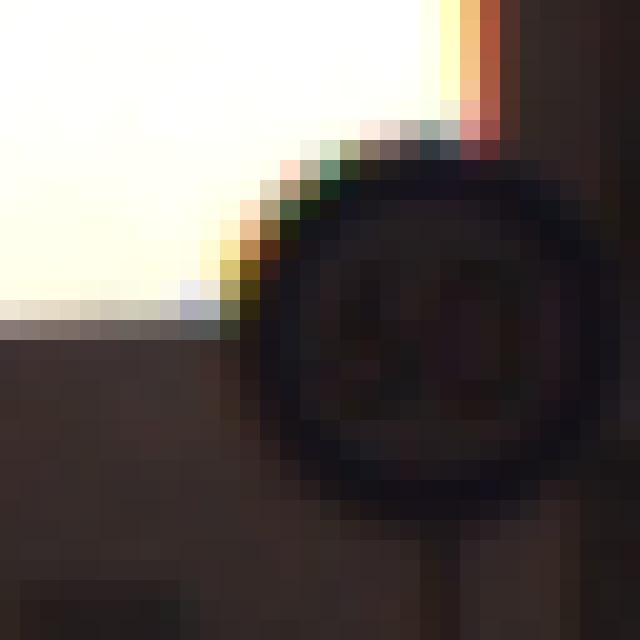SPEED-LIMIT-60: (212, 126, 627, 553)
